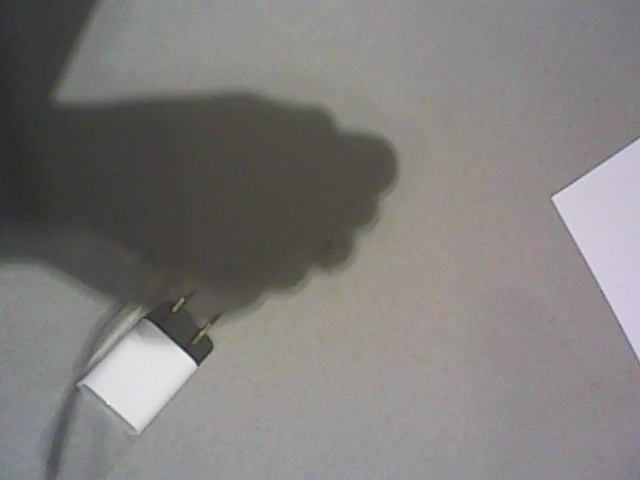charger: (75, 297, 214, 438)
